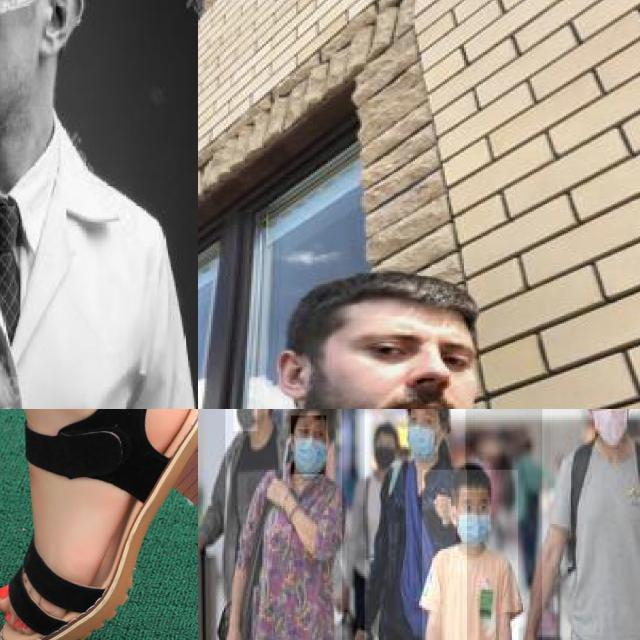No_Ear-Protection: (35, 0, 91, 55), (271, 347, 320, 408)
No_Glasses: (340, 322, 485, 388)
Sandals: (0, 409, 198, 640)
face_mask: (291, 416, 328, 476), (456, 492, 489, 547), (406, 409, 438, 458), (591, 409, 628, 444), (372, 436, 397, 470), (233, 409, 258, 436)
face_nomask: (336, 317, 478, 409)
hand_noglove: (348, 625, 375, 640), (518, 625, 542, 640), (220, 627, 244, 640), (198, 532, 204, 563)
head_nohelmet: (328, 268, 489, 335), (450, 467, 494, 506), (288, 409, 339, 424)
person: (0, 0, 198, 409), (225, 409, 343, 640), (364, 409, 467, 640), (542, 409, 640, 640), (422, 469, 519, 640)
